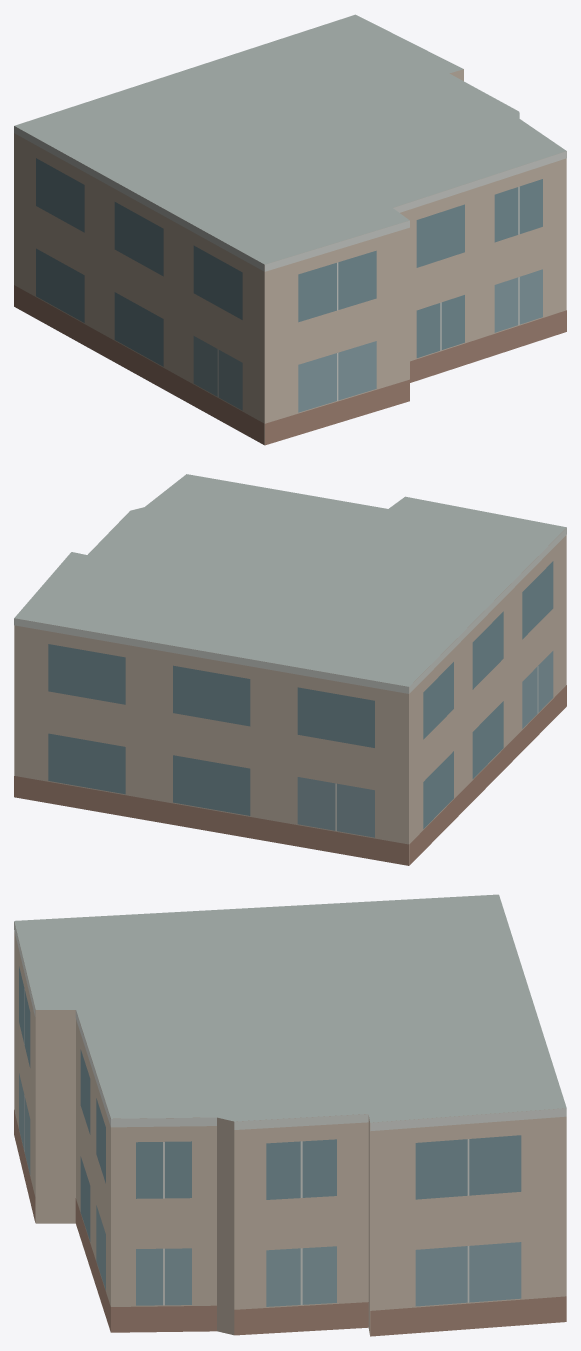
Rendered from survey-upis-32684743.glb.
3 views of the same model, one above another, from view 1: azimuth 30°, elevation 25°; view 2: azimuth 150°, elevation 25°; view 3: azimuth 270°, elevation 25° (orthographic). The views are drawn at different scales.
Parts seen in each view (by area): view 1: survey-upis-32684743.tmp; view 2: survey-upis-32684743.tmp; view 3: survey-upis-32684743.tmp.
Boxes of the visible parts, left/top/right/bottom form: survey-upis-32684743.tmp: left=14, top=14, right=566, bottom=445; survey-upis-32684743.tmp: left=14, top=474, right=566, bottom=865; survey-upis-32684743.tmp: left=14, top=894, right=566, bottom=1336.
Size of the model in its own units: 13.98 by 6.1 by 14.3.
